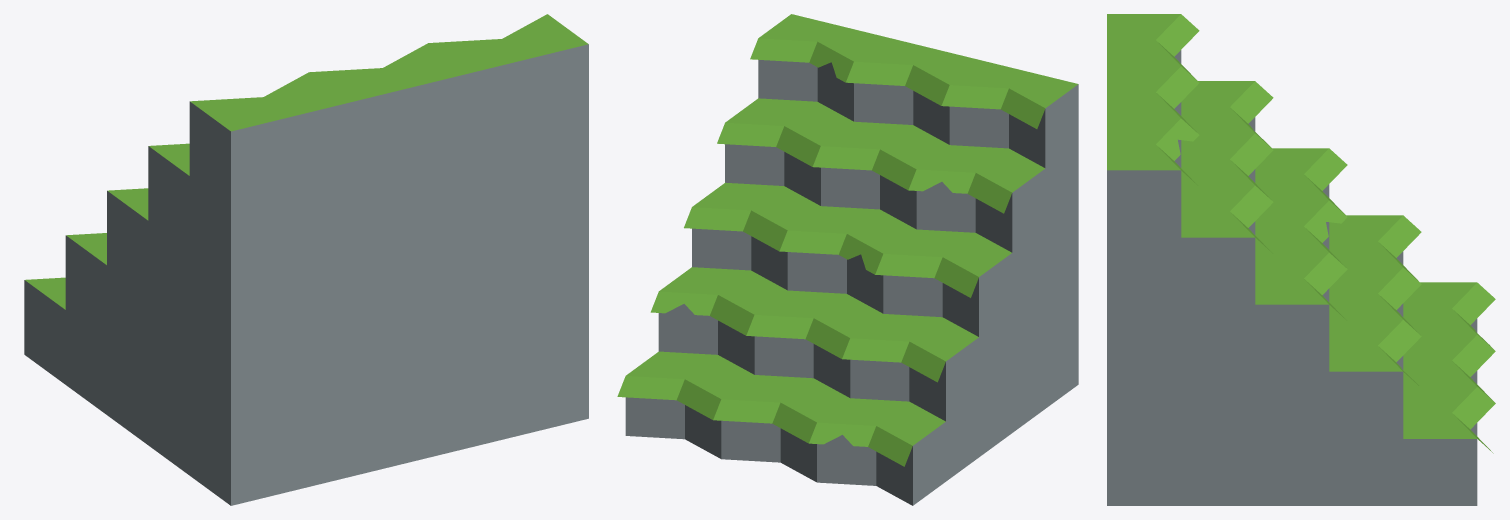
The model's file is cliff_steps_stone.glb.
3 renders of one model, left to right at view 1: azimuth 30°, elevation 25°; view 2: azimuth 150°, elevation 25°; view 3: azimuth 270°, elevation 25°, orthographic. The views are drawn at different scales.
Parts seen in each view (by area): view 1: cliff_steps_stone; view 2: cliff_steps_stone; view 3: cliff_steps_stone.
Part boxes in pixels (x1,y1,x2,y2): cliff_steps_stone: (24,14,588,505); cliff_steps_stone: (617,14,1078,505); cliff_steps_stone: (1107,14,1495,505).
Size of the model in its own units: 1 by 1 by 1.05.
